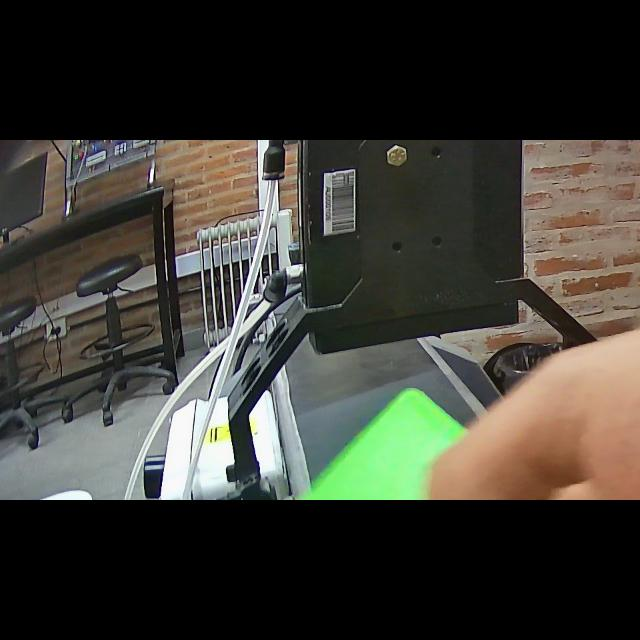greenBox: (246, 380, 640, 500)
